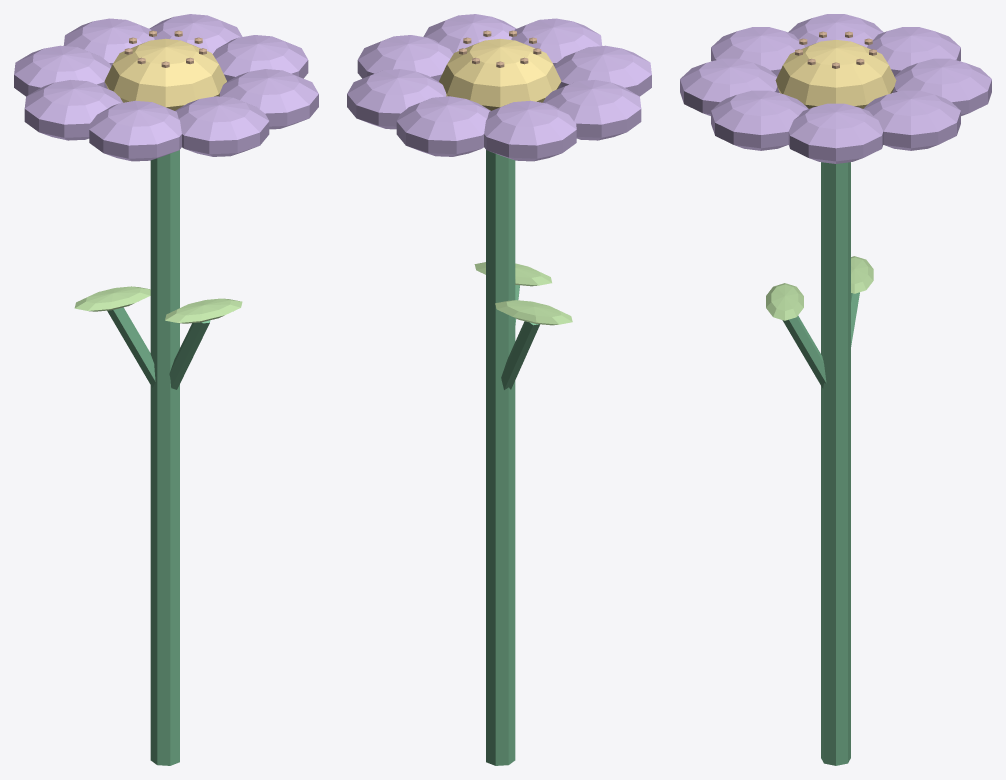
File: flor_fondo_violeta.glb
3 views of the same model, side by side, from view 1: azimuth 30°, elevation 25°; view 2: azimuth 150°, elevation 25°; view 3: azimuth 270°, elevation 25° (orthographic).
Visible parts, largest first — view 1: flor_fondo_violeta; view 2: flor_fondo_violeta; view 3: flor_fondo_violeta.
Part boxes in pixels (box(x1,y1,x2,y2)): flor_fondo_violeta: box(14, 14, 318, 765); flor_fondo_violeta: box(347, 14, 651, 765); flor_fondo_violeta: box(680, 14, 991, 765).
Bounding box in the file's own units: 2.64 × 6.67 × 2.65.
